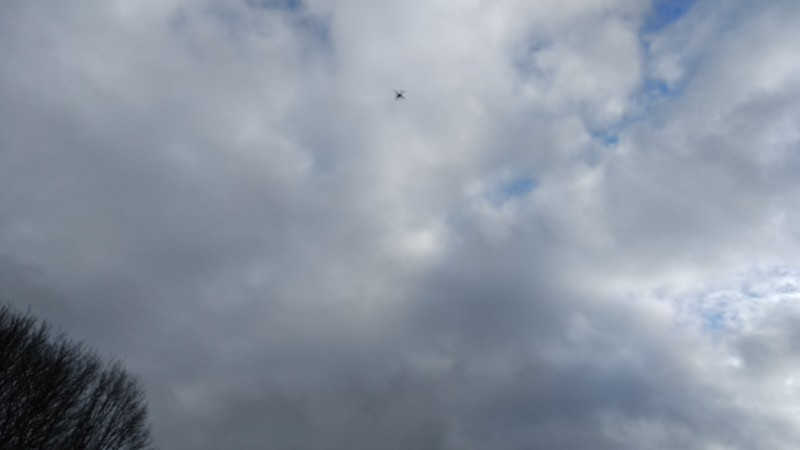drone: (393, 89, 407, 100)
